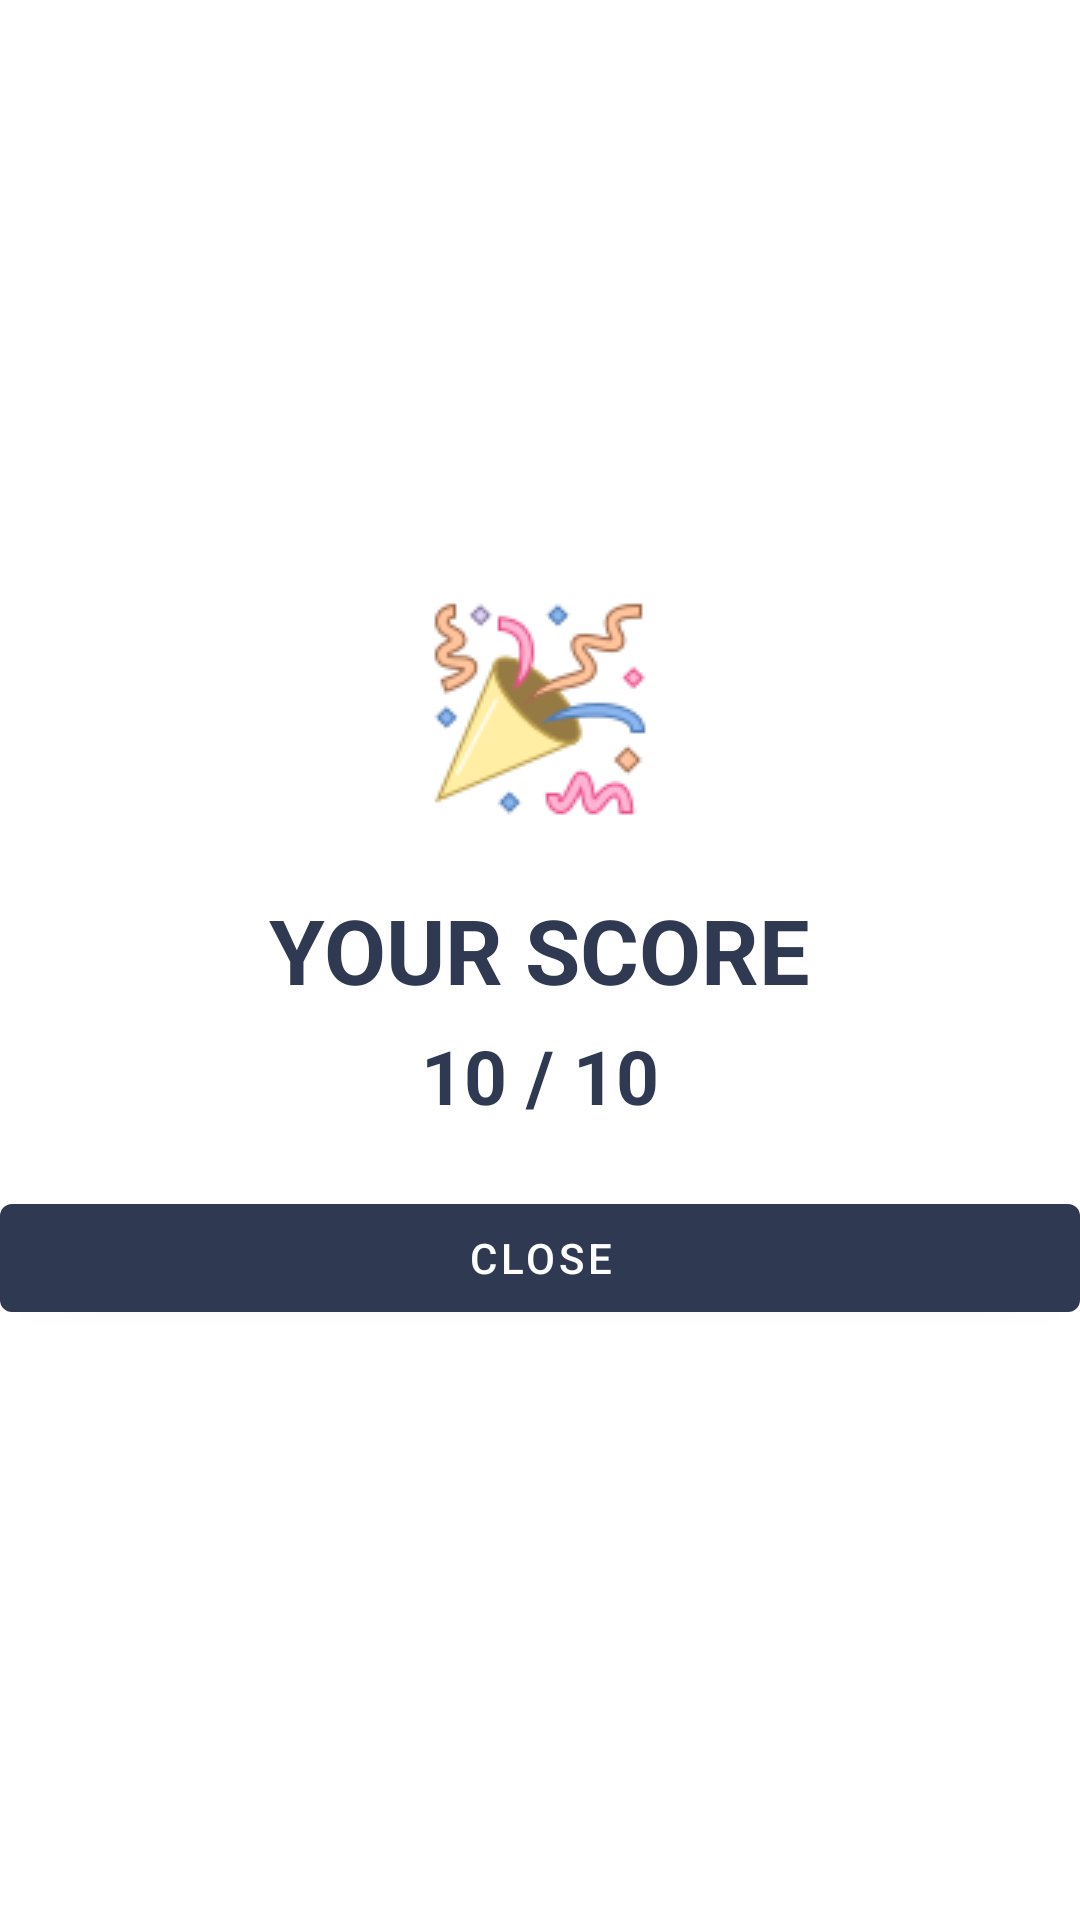

Screen size 1080*1920. Icon name, then its center in pixels as (x,y):
confetti: (540,709)
